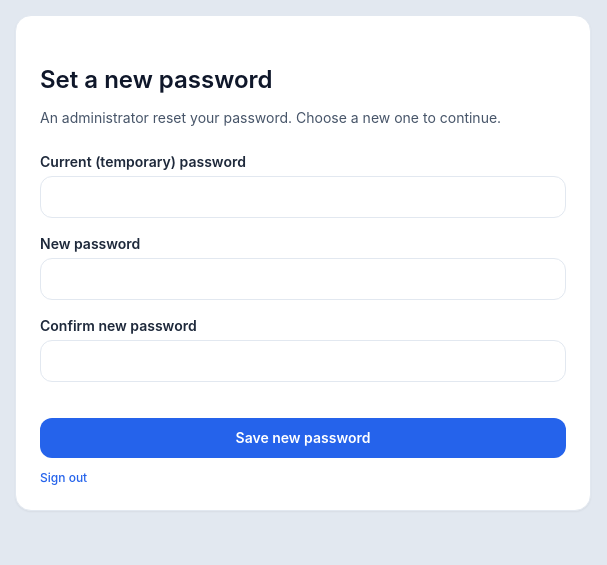
it: ForcedPasswordChange › blocks submit when the new password and confirmation differ
Type "TempPass123" into the password field labelled "Current (temporary) password" at (303, 197), box [40, 176, 566, 218]
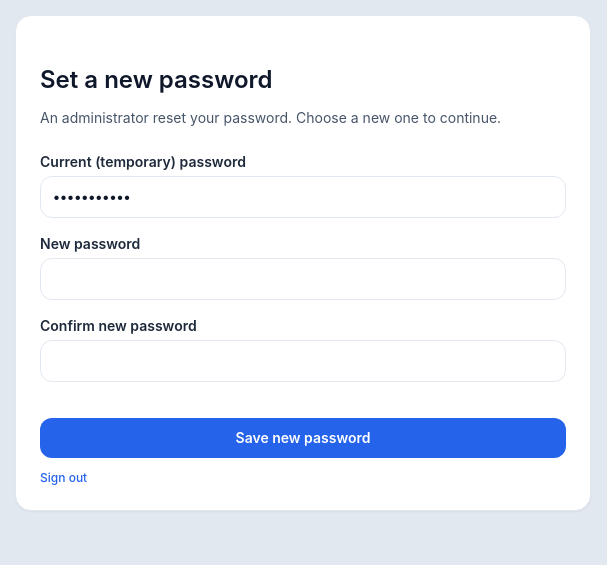
Type "brandnew123" into the password field labelled "New password" at (303, 279), box [40, 258, 566, 300]
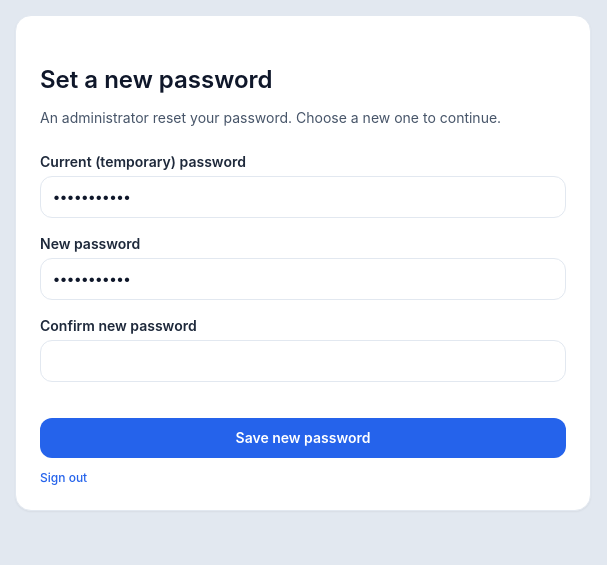
Type "different999" into the password field labelled "Confirm new password" at (303, 361), box [40, 340, 566, 382]
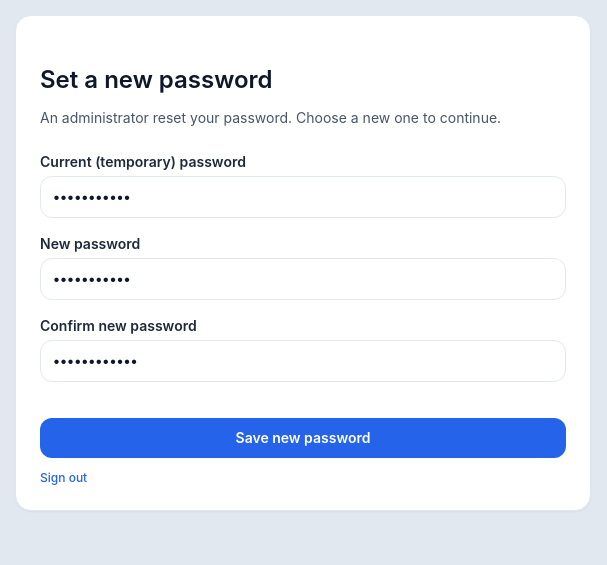
Click the button "Save new password" at (303, 438), box [40, 418, 566, 458]
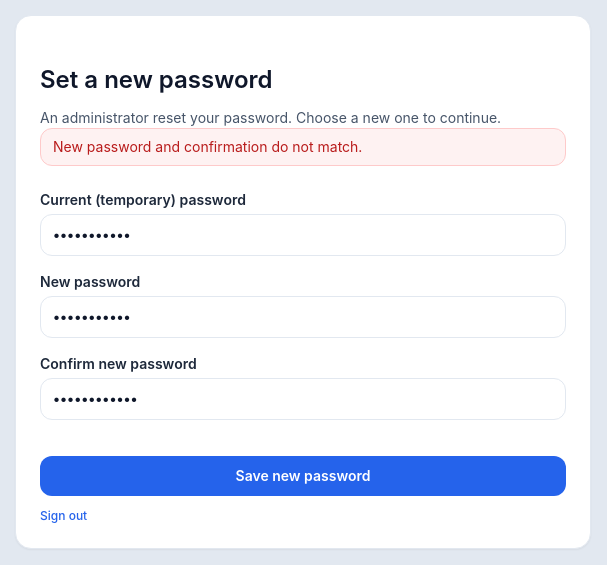
Now the text "New password and confirmation do not match." is shown, box [40, 128, 566, 166]
